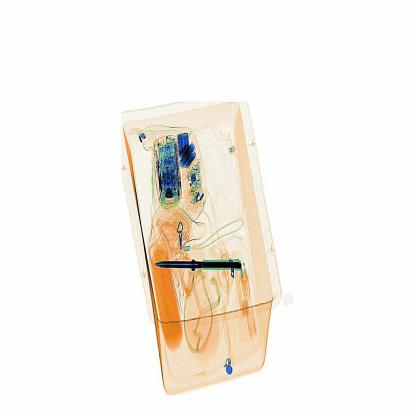gun: (151, 244, 247, 282)
